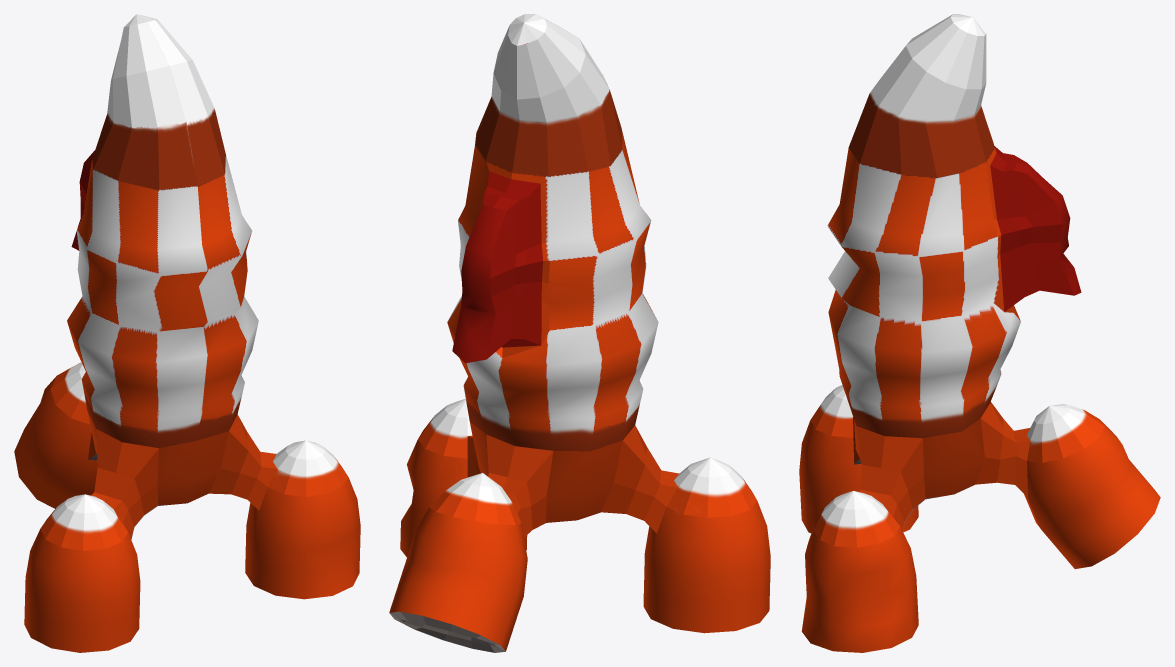
File: mesh_broken_rocket.FBX
The picture shows the model from 3 angles, left to right: view 1: azimuth 30°, elevation 25°; view 2: azimuth 150°, elevation 25°; view 3: azimuth 270°, elevation 25°; orthographic projection. The views are drawn at different scales.
Visible parts, largest first — view 1: mesh_rocket_broken; view 2: mesh_rocket_broken; view 3: mesh_rocket_broken.
Part boxes in pixels (x1,y1,x2,y2): mesh_rocket_broken: (14, 14, 360, 652); mesh_rocket_broken: (389, 14, 770, 652); mesh_rocket_broken: (799, 14, 1160, 652).
Size of the model in its own units: 21.64 by 35.42 by 20.77.
